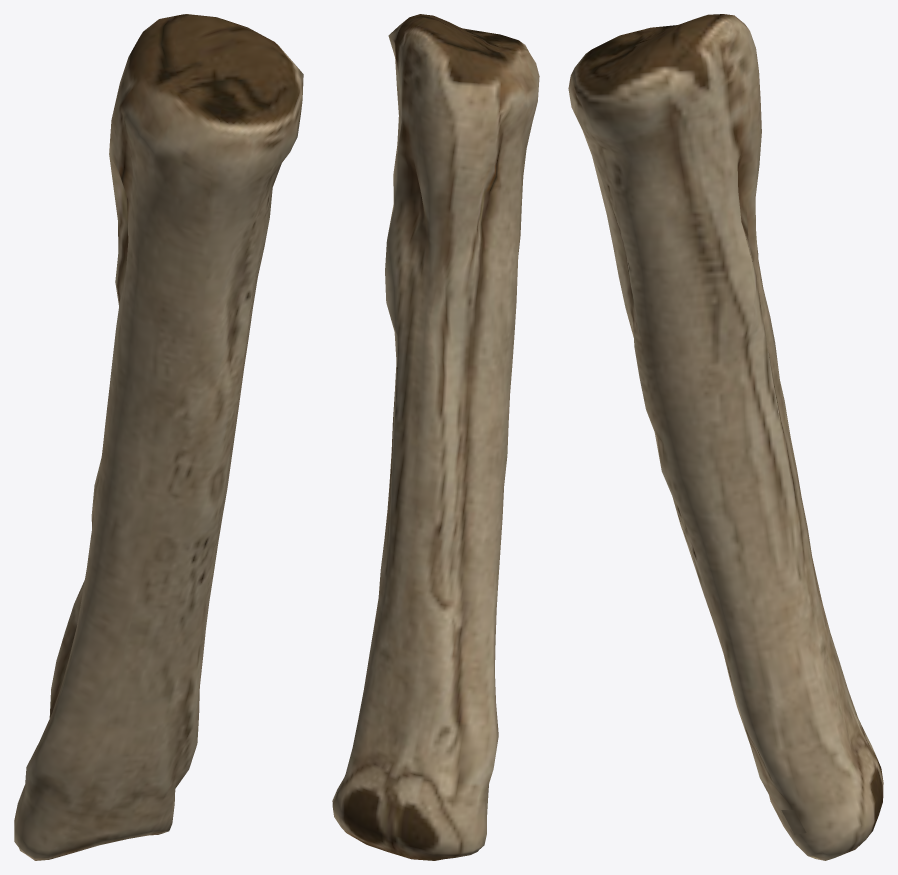
The model's file is Cannon.glb.
3 views of the same model, side by side, from view 1: azimuth 30°, elevation 25°; view 2: azimuth 150°, elevation 25°; view 3: azimuth 270°, elevation 25° (orthographic). The views are drawn at different scales.
Parts seen in each view (by area): view 1: R_Bck_Cannon; view 2: R_Bck_Cannon; view 3: R_Bck_Cannon.
Boxes of the visible parts, x1,y1,x2,y2 form: R_Bck_Cannon: [14, 14, 303, 860]; R_Bck_Cannon: [332, 14, 539, 860]; R_Bck_Cannon: [568, 14, 883, 860].
Size of the model in its own units: 0.0632 by 0.2776 by 0.0956.
Materials: 1 (1 with a texture image).
